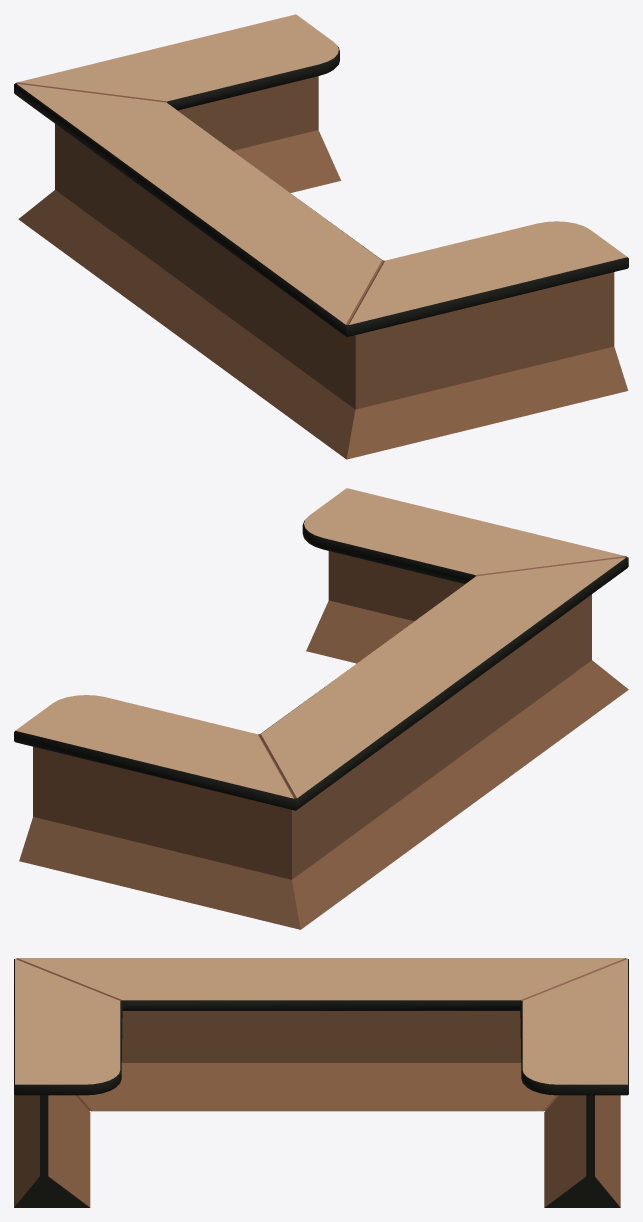
The model's file is OT_143_office_u_table_var1.glb.
3 renders of one model, top to bottom at view 1: azimuth 30°, elevation 25°; view 2: azimuth 150°, elevation 25°; view 3: azimuth 270°, elevation 25°, orthographic. The views are drawn at different scales.
Visible parts, largest first — view 1: u_table; view 2: u_table; view 3: u_table.
Boxes of the visible parts, bbox=[...] form: u_table: bbox=[14, 14, 628, 459]; u_table: bbox=[14, 488, 628, 929]; u_table: bbox=[14, 958, 628, 1207].
Size of the model in its own units: 2.14 by 0.9646 by 4.36.
